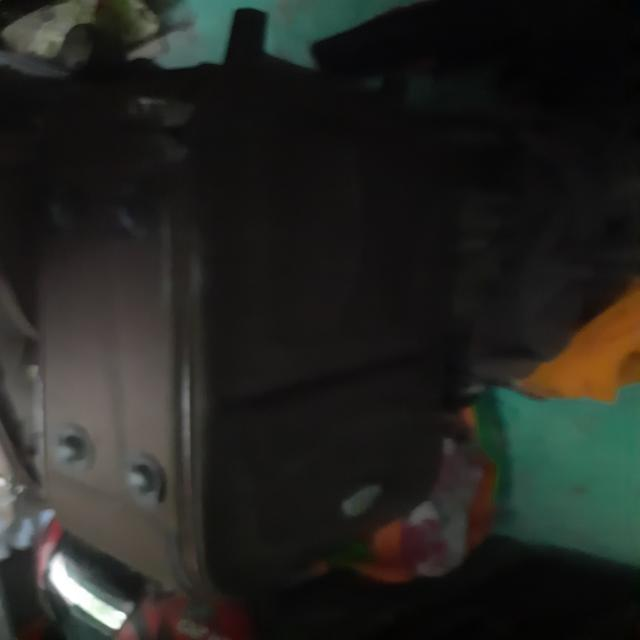suitcaserotation: (0, 71, 460, 607)
